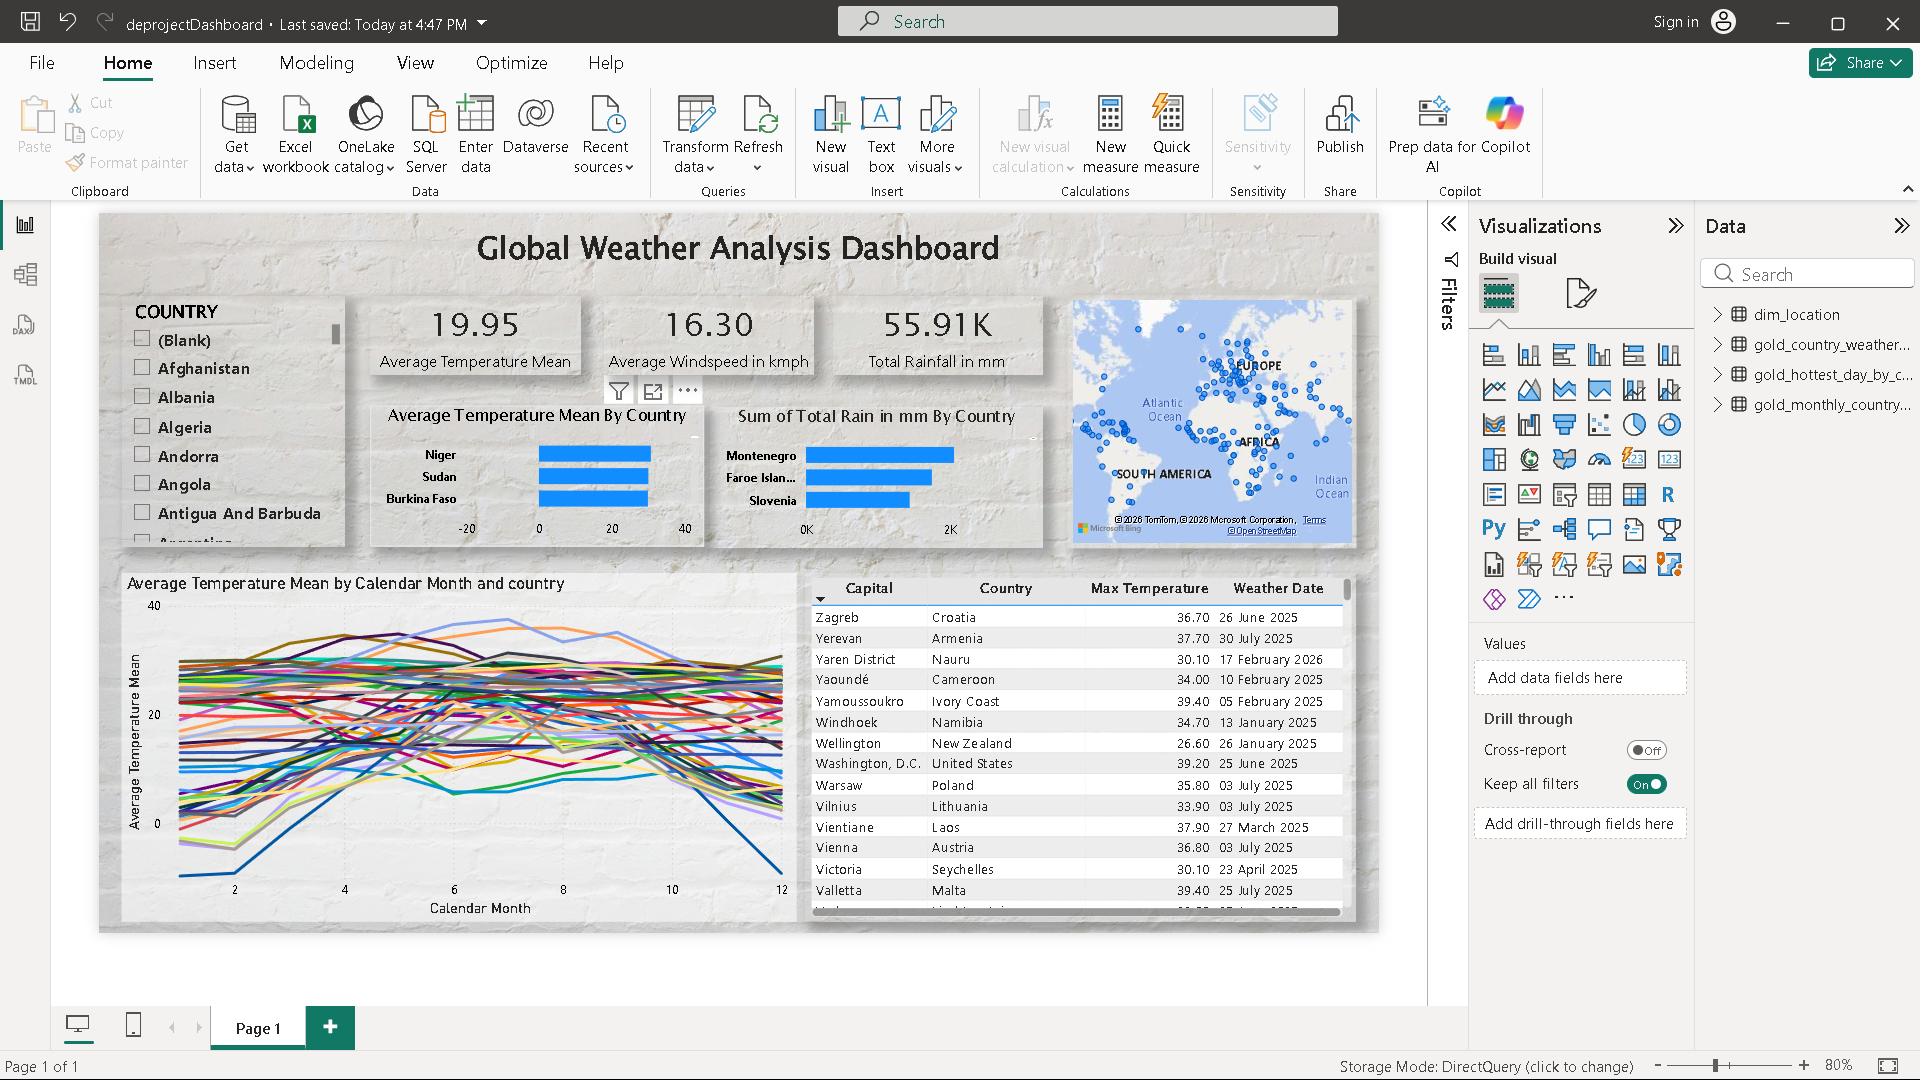

Layout of this report page (visuals, bound fields, positions):
{"tool":"powerbi","page":{"name":"Page 1","canvas":[1280,720],"ordinal":0},"visuals":[{"type":"clusteredBarChart","title":"Average Temperature Mean By Country","fields":{"Category":["gold_country_weather_summary.country"],"Y":["Avg(gold_country_weather_summary.avg_temp_mean)"]},"box":[271.2,192.5,333.8,141.2],"z":0},{"type":"clusteredBarChart","title":"Sum of Total Rain in mm By Country","fields":{"Category":["gold_country_weather_summary.country"],"Y":["Sum(gold_country_weather_summary.total_rain_mm)"]},"box":[611.2,193.8,332.5,141.2],"z":1000},{"type":"card","fields":{"Values":["Sum(gold_country_weather_summary.total_rain_mm)"]},"box":[733.8,82.5,210,80],"z":2000},{"type":"card","fields":{"Values":["Avg(gold_country_weather_summary.avg_temp_mean)"]},"box":[271.2,82.5,210,80],"z":3000},{"type":"card","fields":{"Values":["Avg(gold_country_weather_summary.avg_windspeed_kmh)"]},"box":[505,82.5,210,80],"z":4000},{"type":"lineChart","fields":{"Category":["gold_monthly_country_weather.calendar_month"],"Y":["Avg(gold_monthly_country_weather.avg_temp_mean)"],"Series":["gold_monthly_country_weather.country"]},"box":[22.5,360,675,348.8],"z":5000},{"type":"slicer","fields":{"Values":["dim_location.country"]},"box":[22.5,82.5,223.8,251.2],"z":6000},{"type":"tableEx","fields":{"Values":["gold_hottest_day_by_country.capital","gold_hottest_day_by_country.country","Max(gold_hottest_day_by_country.temp_max)","gold_hottest_day_by_country.weather_date"]},"box":[706.2,360,551.2,348.8],"z":7000},{"type":"map","fields":{"Y":["dim_location.lat"],"X":["dim_location.lon"]},"box":[968.8,82.5,288.8,252.5],"z":8000},{"type":"textbox","title":"Global Weather Analysis Dashboard","box":[0,0,1280,63.8],"z":9000}]}

Visuals, with their boxes on the page's 1280x720 design canvas (x1, y1, x2, y2). These are canvas units, not pixel positions in the 1920x1080 screenshot, which may show the page scaled, cropped or inside an application window:
"Average Temperature Mean By Country" clusteredBarChart: 271/192/605/334
"Sum of Total Rain in mm By Country" clusteredBarChart: 611/194/944/335
card - Sum(gold_country_weather_summary.total_rain_mm): 734/82/944/162
card - Avg(gold_country_weather_summary.avg_temp_mean): 271/82/481/162
card - Avg(gold_country_weather_summary.avg_windspeed_kmh): 505/82/715/162
lineChart - gold_monthly_country_weather.calendar_month x Avg(gold_monthly_country_weather.avg_temp_mean): 22/360/698/709
slicer - dim_location.country: 22/82/246/334
tableEx - gold_hottest_day_by_country.capital x gold_hottest_day_by_country.country: 706/360/1257/709
map - dim_location.lat x dim_location.lon: 969/82/1258/335
"Global Weather Analysis Dashboard" textbox: 0/0/1280/64
